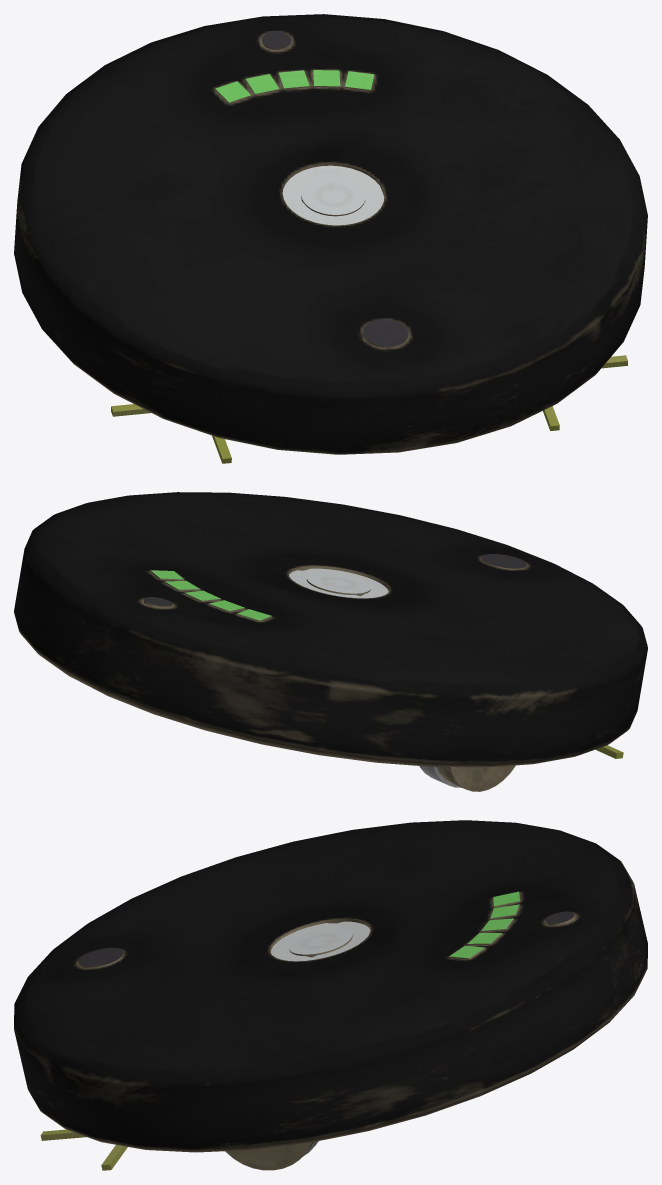
The model's file is DONT USE.fbx.
3 renders of one model, top to bottom at view 1: azimuth 30°, elevation 25°; view 2: azimuth 150°, elevation 25°; view 3: azimuth 270°, elevation 25°, orthographic.
Parts seen in each view (by area): view 1: Docked Roomba, Left Brush.001; view 2: Docked Roomba, Left Wheel.001; view 3: Docked Roomba, Right Wheel.001, Right Brush.001.
Part boxes in pixels (x1,y1,x2,y2): Docked Roomba: [14, 14, 647, 454]; Left Brush.001: [111, 404, 231, 463]; Docked Roomba: [14, 492, 647, 767]; Left Wheel.001: [419, 765, 515, 791]; Docked Roomba: [14, 820, 647, 1152]; Right Wheel.001: [225, 1141, 318, 1170]; Right Brush.001: [40, 1129, 127, 1170].
Size of the model in its own units: 38.32 by 14.14 by 38.11.
8 materials, 8 textured.
